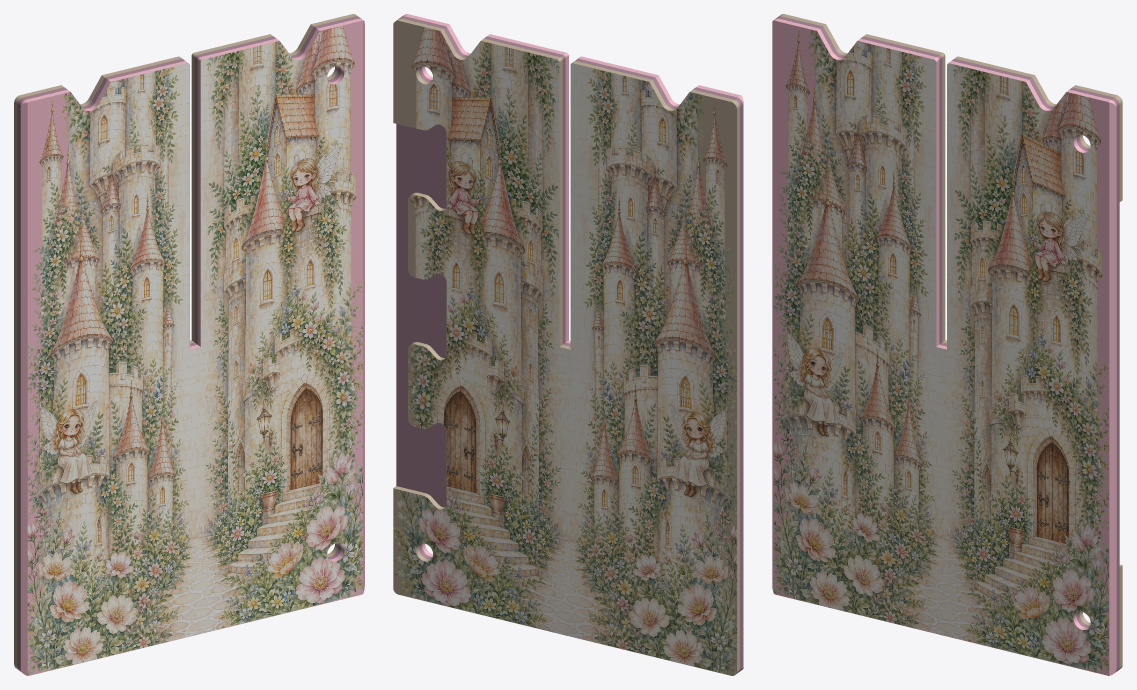
The picture shows the model from 3 angles, left to right: view 1: azimuth 30°, elevation 25°; view 2: azimuth 150°, elevation 25°; view 3: azimuth 330°, elevation 25°; orthographic projection.
Visible parts, largest first — view 1: p003; view 2: p003; view 3: p003.
Boxes of the visible parts, x1,y1,x2,y2 form: p003: (14,14,364,675); p003: (393,14,743,675); p003: (772,14,1122,675).
Bounding box in the file's own units: 580 × 925 × 27.
5 materials, 2 textured.
